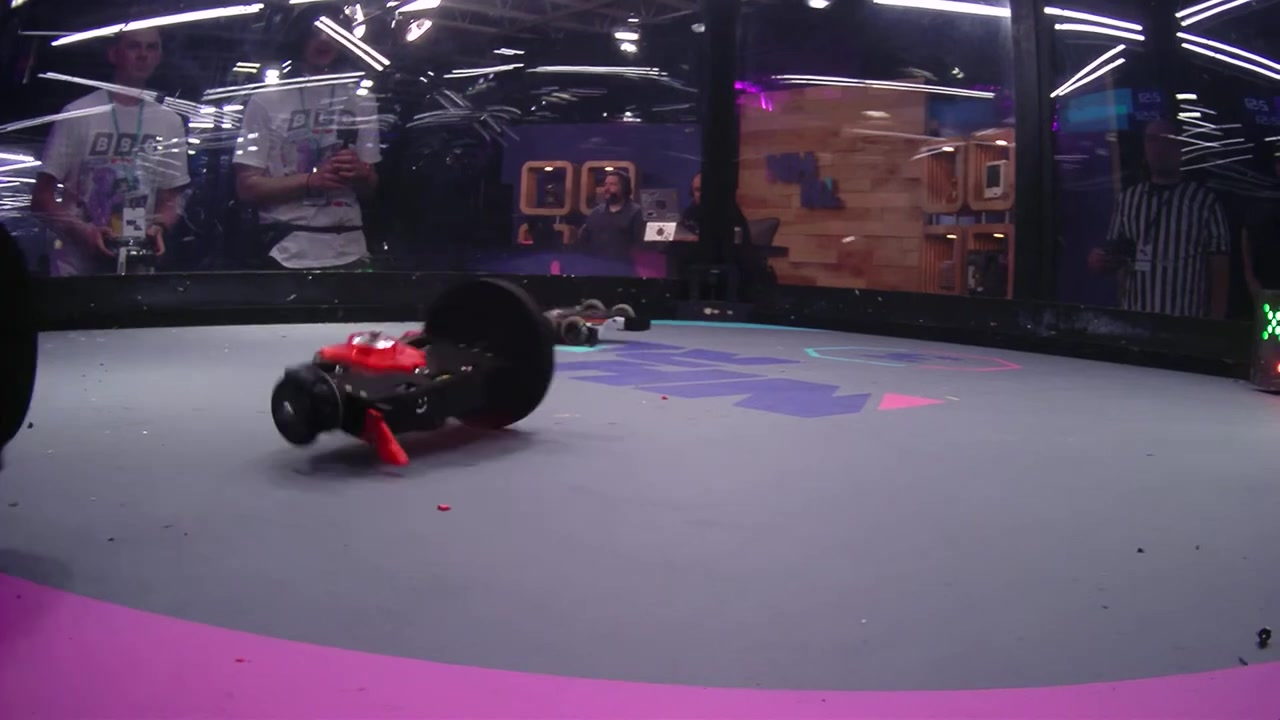combatbot: (268, 274, 556, 469), (546, 300, 652, 349)
housebot: (1247, 282, 1280, 395)
